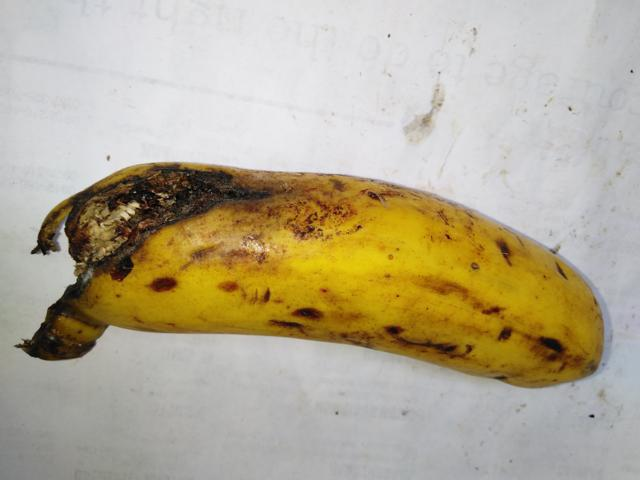ripe: (263, 141, 614, 405)
rotten: (37, 131, 290, 318)
